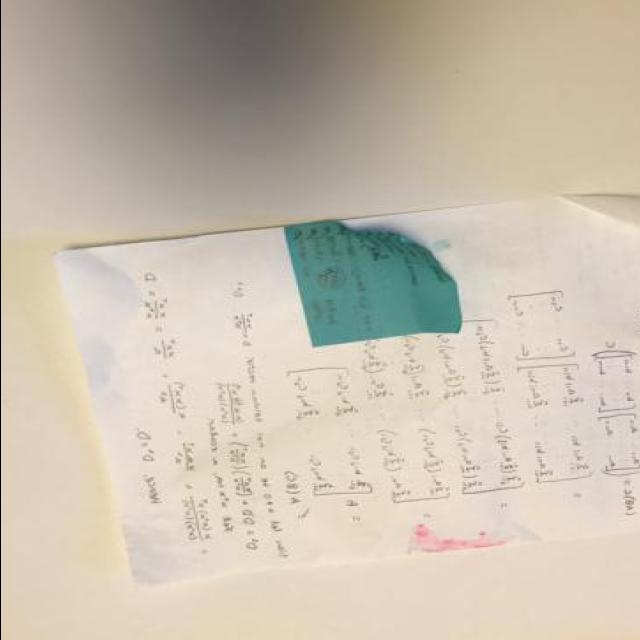kertas: (56, 192, 640, 589)
